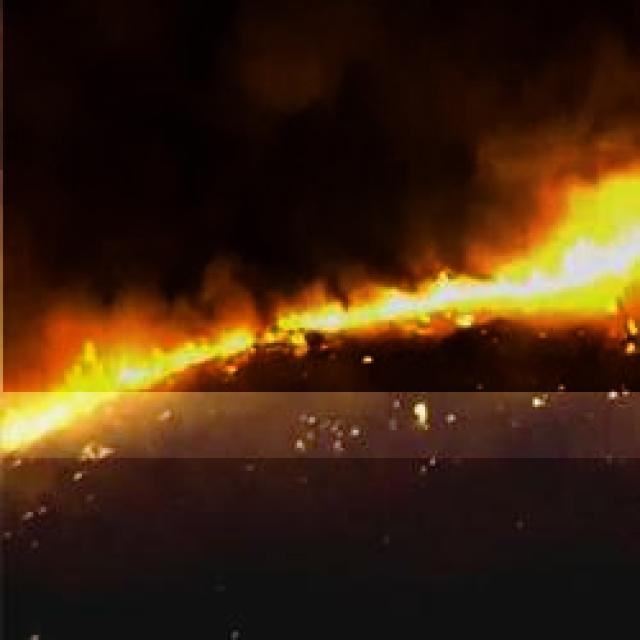Fire: (0, 170, 640, 458)
Smoke: (3, 0, 640, 392)
